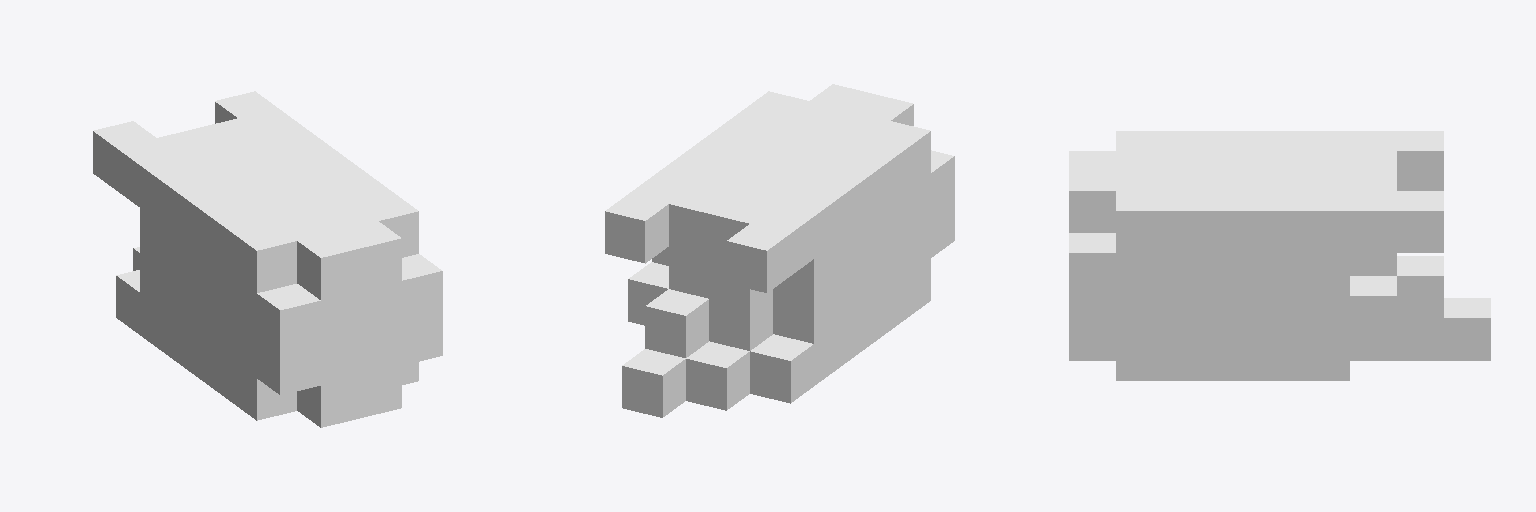
Rendered from Fireball02.obj.
The picture shows the model from 3 angles: view 1: azimuth 30°, elevation 25°; view 2: azimuth 150°, elevation 25°; view 3: azimuth 270°, elevation 25°; orthographic projection.
Size of the model in its own units: 4 by 4 by 9.